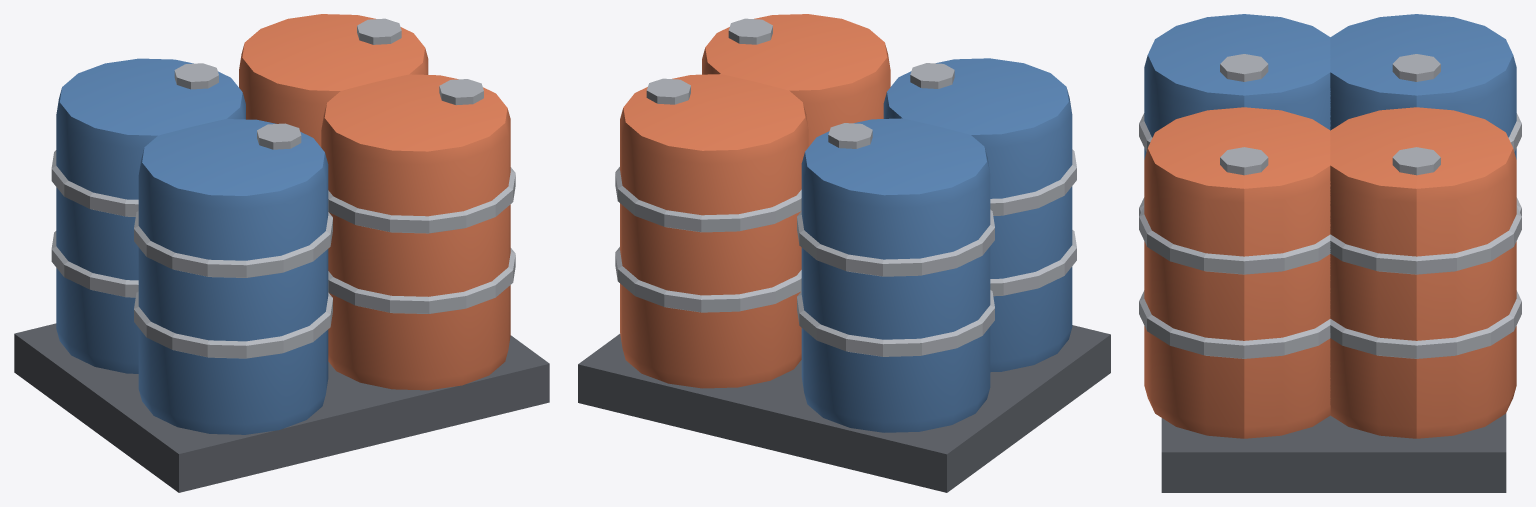
File: aircraft-fleet-and-airfield-fuel-drum-pallet-8abe06a7.glb
The picture shows the model from 3 angles, left to right: view 1: azimuth 30°, elevation 25°; view 2: azimuth 150°, elevation 25°; view 3: azimuth 270°, elevation 25°; orthographic projection. The views are drawn at different scales.
Parts seen in each view (by area): view 1: fuel-drum-pallet; view 2: fuel-drum-pallet; view 3: fuel-drum-pallet.
Part boxes in pixels (left/top/right/bottom): fuel-drum-pallet: left=14, top=14, right=549, bottom=492; fuel-drum-pallet: left=578, top=14, right=1110, bottom=492; fuel-drum-pallet: left=1139, top=14, right=1521, bottom=492.
Bounding box in the file's own units: 1.3 × 0.9949 × 1.11.
